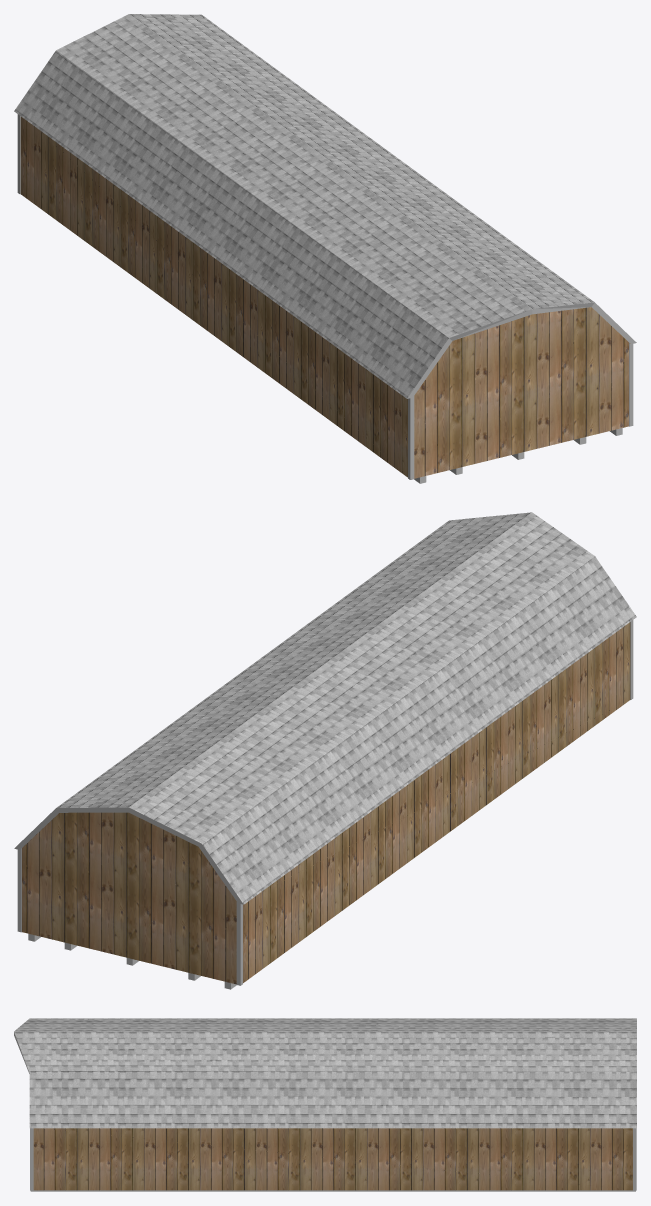
File: Mini Barn Sheds_12x36.obj
3 renders of one model, top to bottom at view 1: azimuth 30°, elevation 25°; view 2: azimuth 150°, elevation 25°; view 3: azimuth 270°, elevation 25°, orthographic. The views are drawn at different scales.
Visible parts, largest first — view 1: Roof, Shed, Sides, Trim; view 2: Roof, Shed, Sides, Trim; view 3: Roof, Shed, Floor, Trim.
Boxes of the visible parts, bbox=[...] form: Roof: bbox=[14, 14, 594, 398]; Shed: bbox=[20, 116, 630, 478]; Sides: bbox=[407, 302, 636, 398]; Trim: bbox=[17, 114, 633, 479]; Roof: bbox=[56, 512, 636, 904]; Shed: bbox=[22, 622, 630, 984]; Sides: bbox=[14, 807, 243, 904]; Trim: bbox=[17, 620, 633, 985]; Roof: bbox=[14, 1018, 636, 1128]; Shed: bbox=[33, 1128, 632, 1190]; Floor: bbox=[30, 1190, 635, 1191]; Trim: bbox=[30, 1128, 636, 1190].
Bounding box in the file's own units: 3.72 × 2.44 × 11.3.
